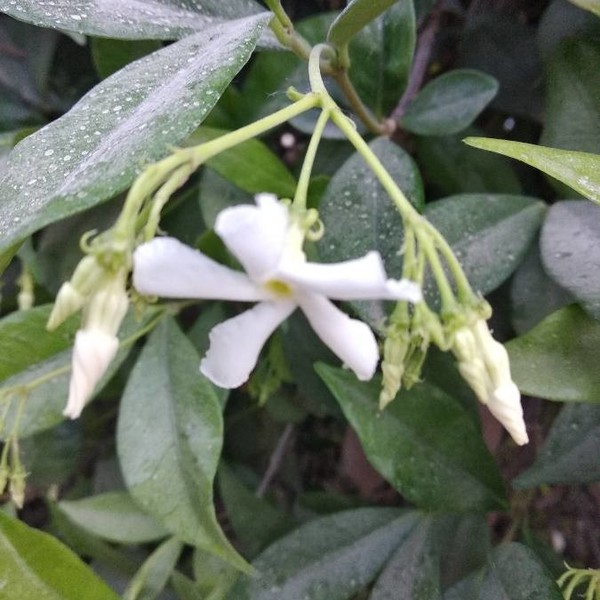obstacle: (69, 25, 558, 506)
